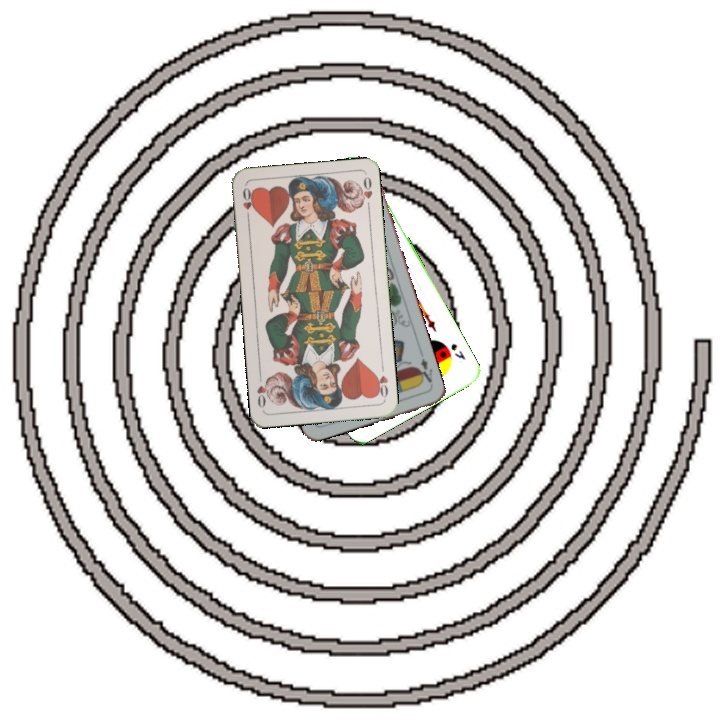EA: (413, 354, 435, 386)
HO: (371, 361, 391, 401), (238, 183, 256, 223)
SK: (447, 339, 468, 363)
